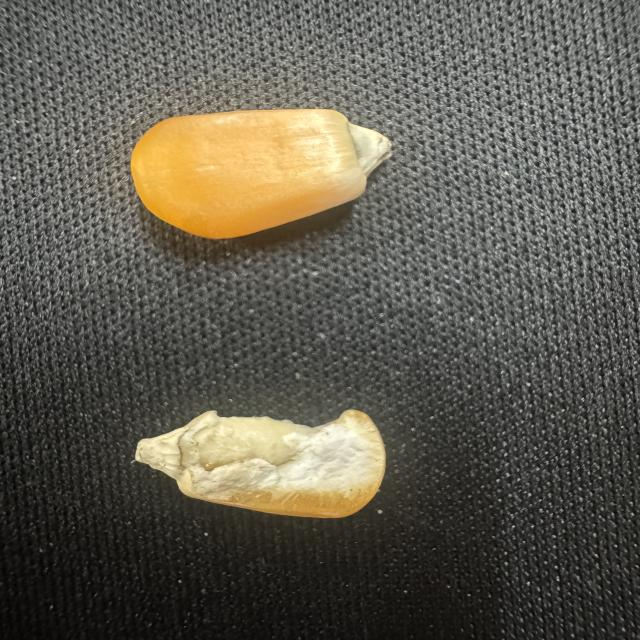Bad-Seed: (121, 392, 396, 528)
Good-Seed: (114, 97, 400, 248)
